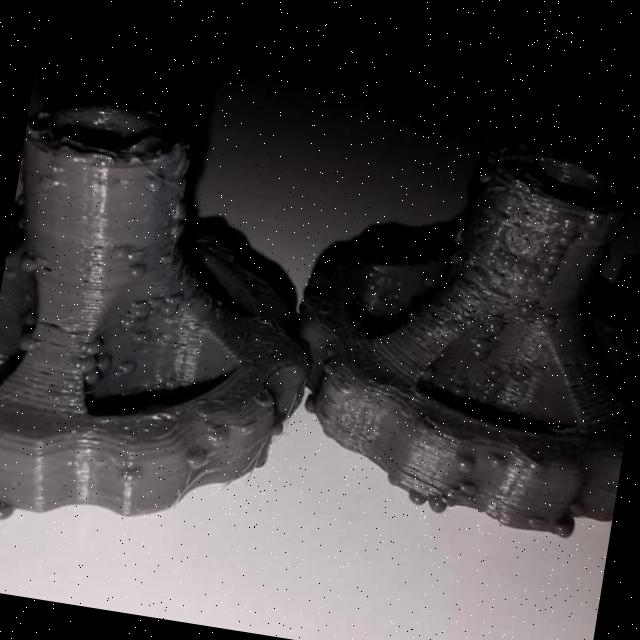blobs: (14, 326, 46, 360), (184, 448, 214, 481), (16, 248, 46, 278), (118, 460, 148, 488), (120, 258, 150, 286), (80, 331, 108, 360), (466, 333, 494, 362), (153, 248, 180, 274), (112, 356, 140, 381), (556, 209, 582, 234), (80, 364, 104, 391), (504, 361, 532, 384), (145, 170, 170, 195), (166, 202, 191, 227), (162, 291, 190, 313), (537, 311, 561, 336), (452, 454, 476, 478), (481, 318, 506, 341), (426, 494, 451, 516), (482, 453, 508, 474), (120, 245, 143, 268), (146, 294, 169, 316), (0, 493, 17, 522), (118, 312, 142, 332), (552, 518, 574, 539), (458, 478, 479, 499), (538, 260, 560, 280), (474, 170, 498, 188), (568, 499, 589, 519), (484, 364, 506, 383), (407, 489, 430, 507), (546, 248, 566, 268), (557, 231, 575, 253), (444, 488, 464, 506)
